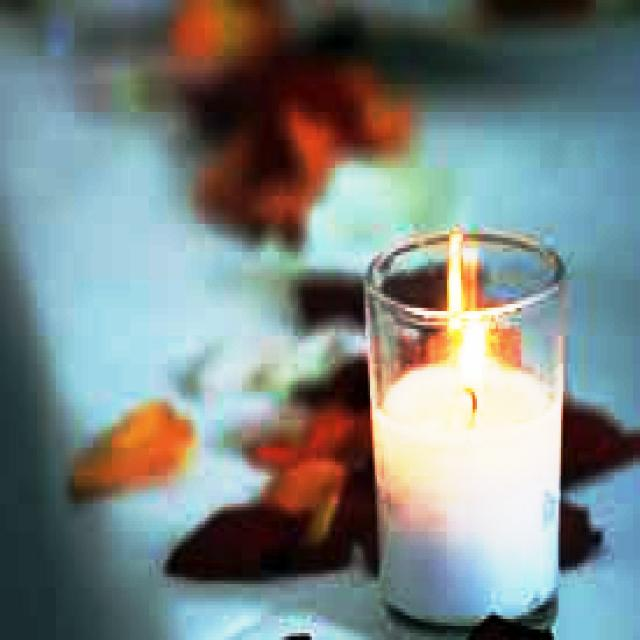api: (448, 312, 490, 393)
